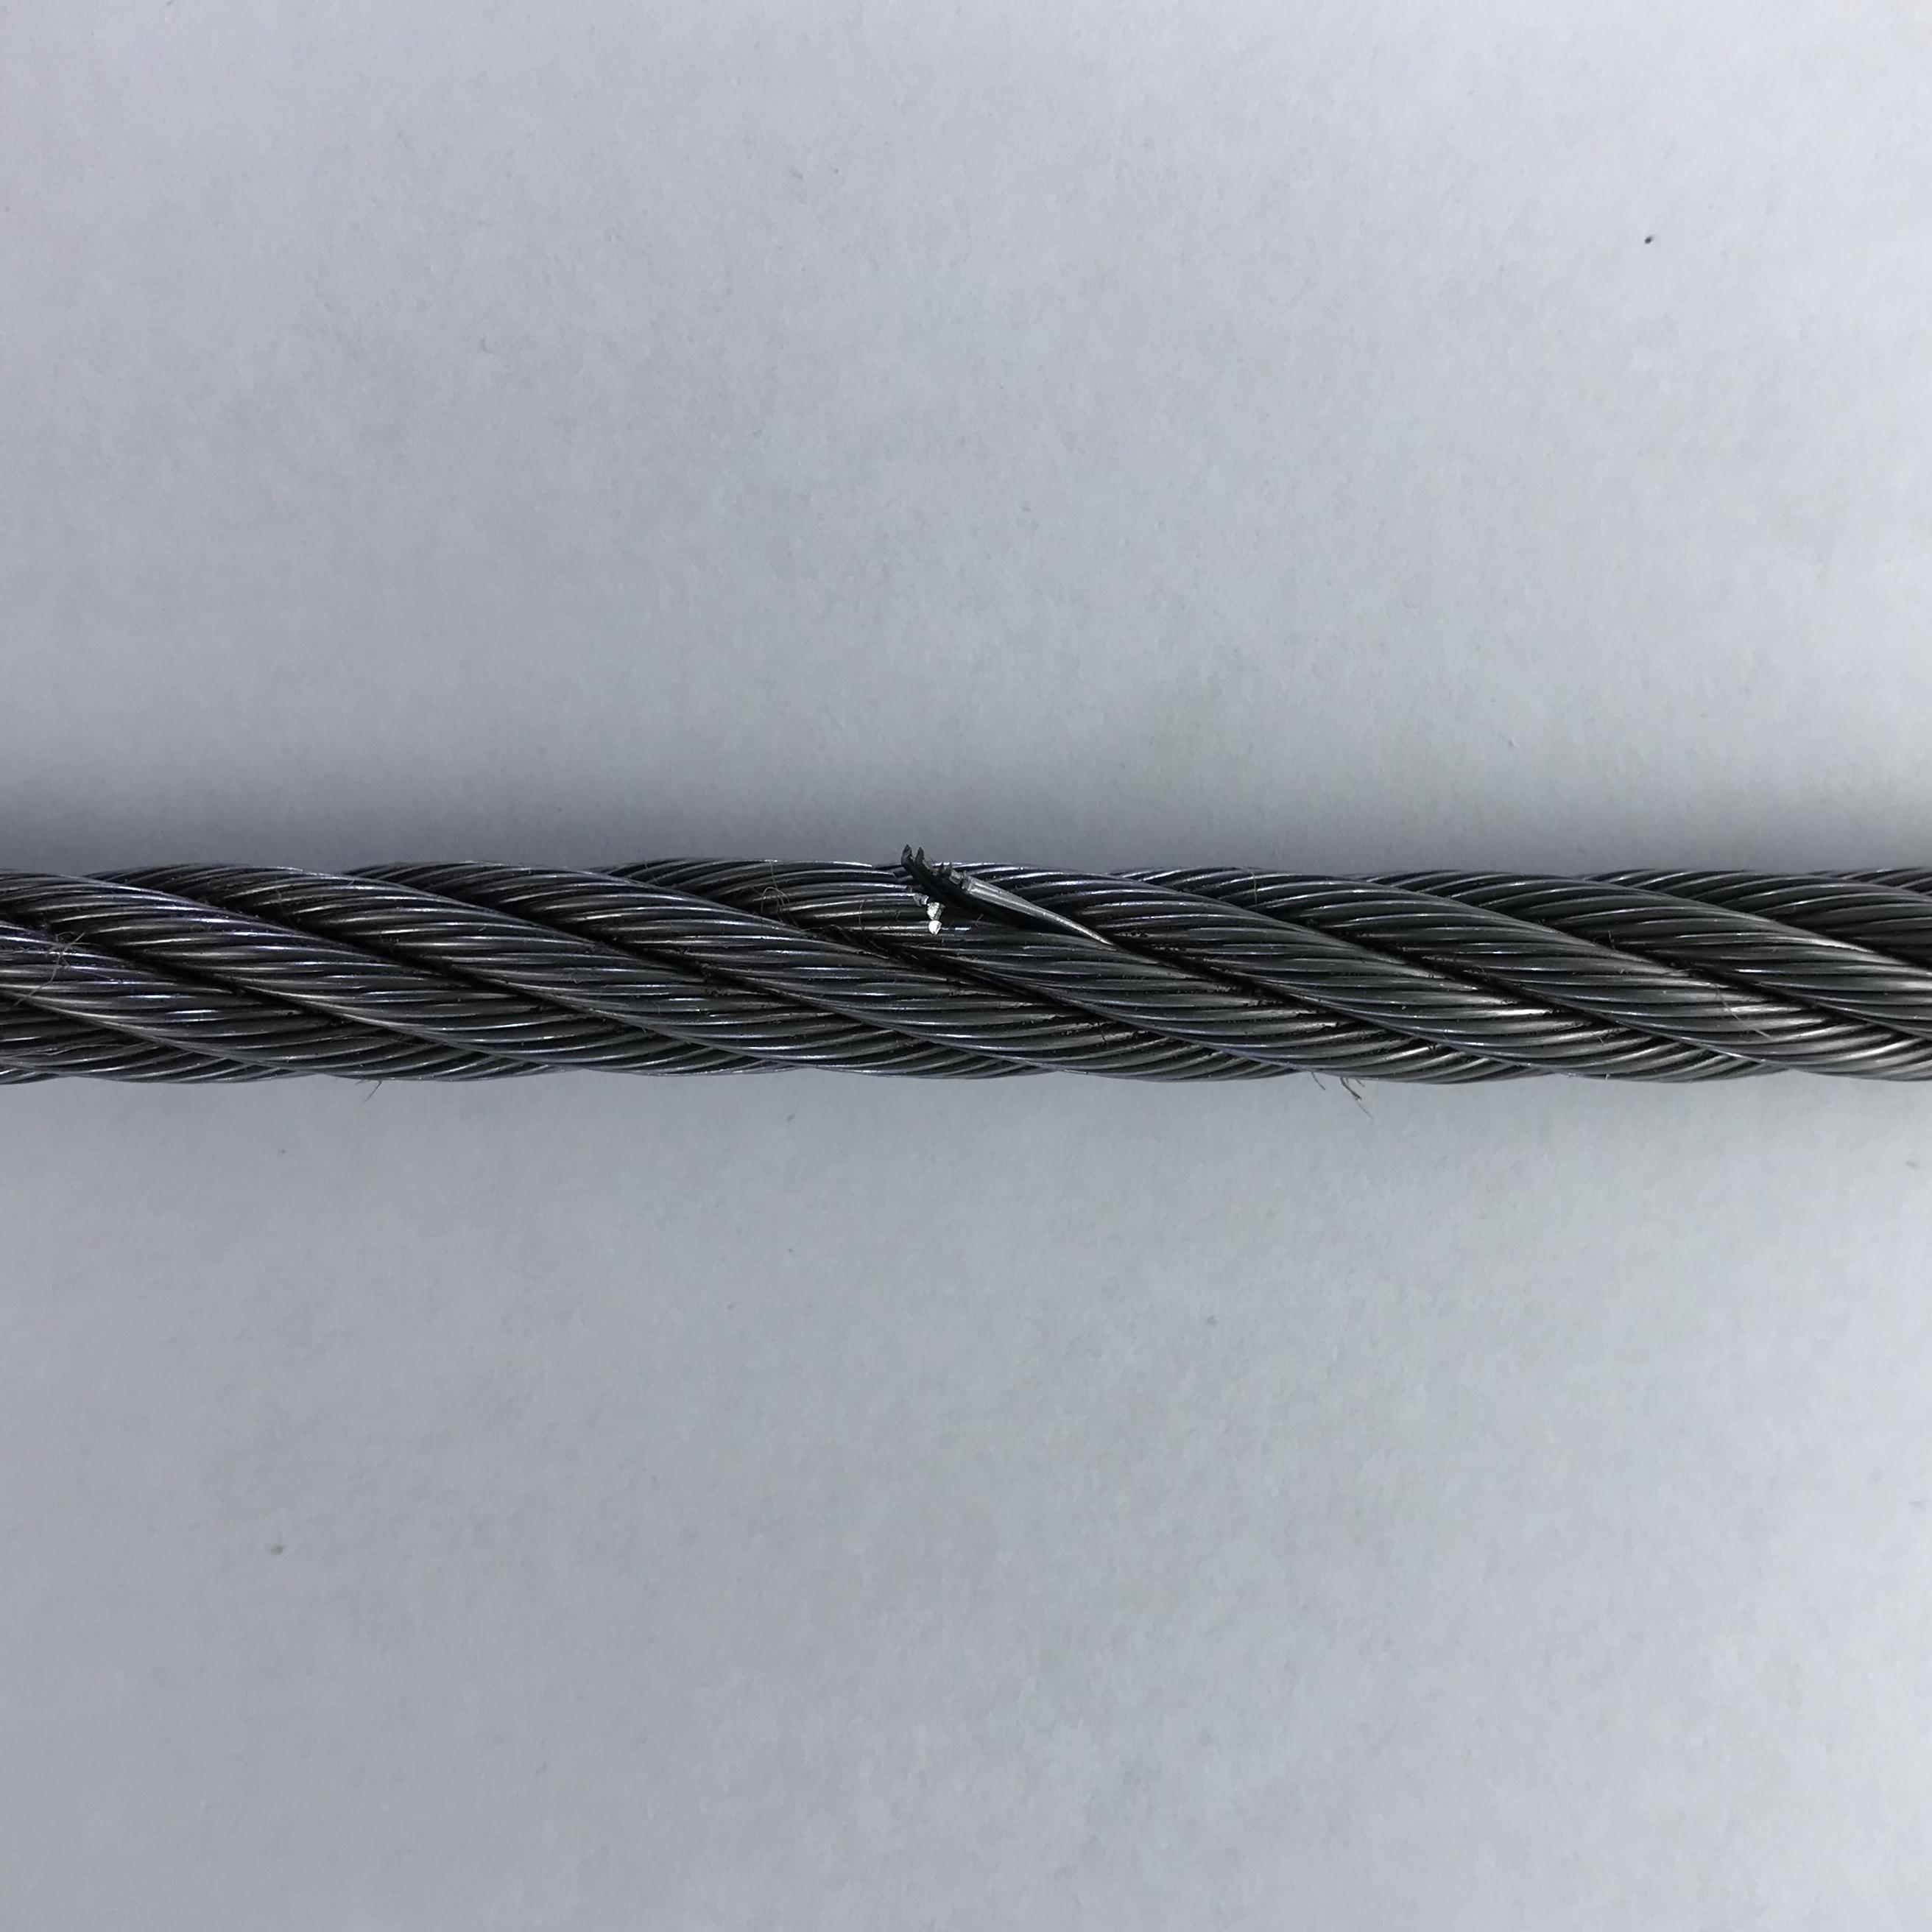break: (879, 839, 1051, 952)
